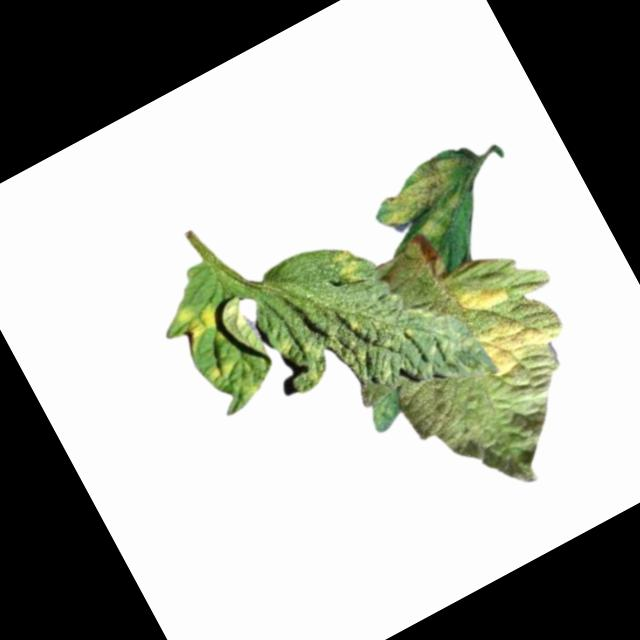Leaf_Mold: (361, 146, 488, 261), (471, 295, 563, 380), (448, 266, 515, 323), (170, 293, 230, 354), (323, 240, 372, 294), (203, 354, 241, 389)
